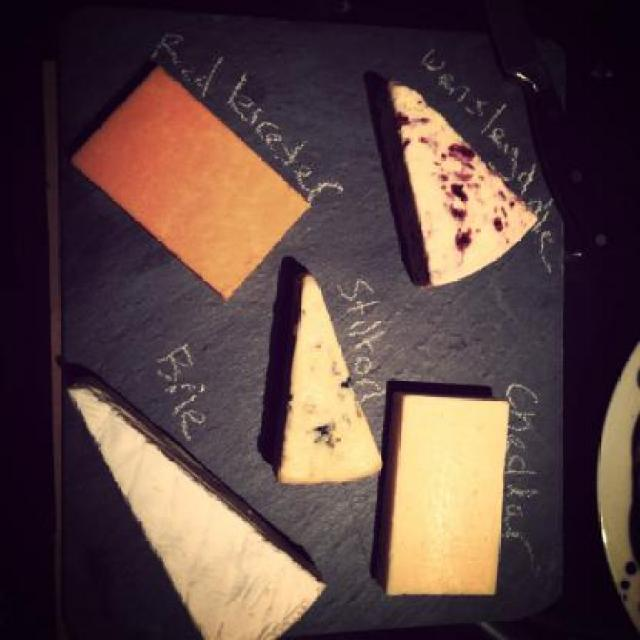Cheese: (65, 378, 327, 639), (69, 64, 311, 302), (386, 71, 545, 287), (378, 388, 514, 597), (274, 272, 388, 478)
